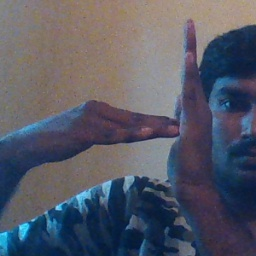Z: (102, 14, 219, 194)
